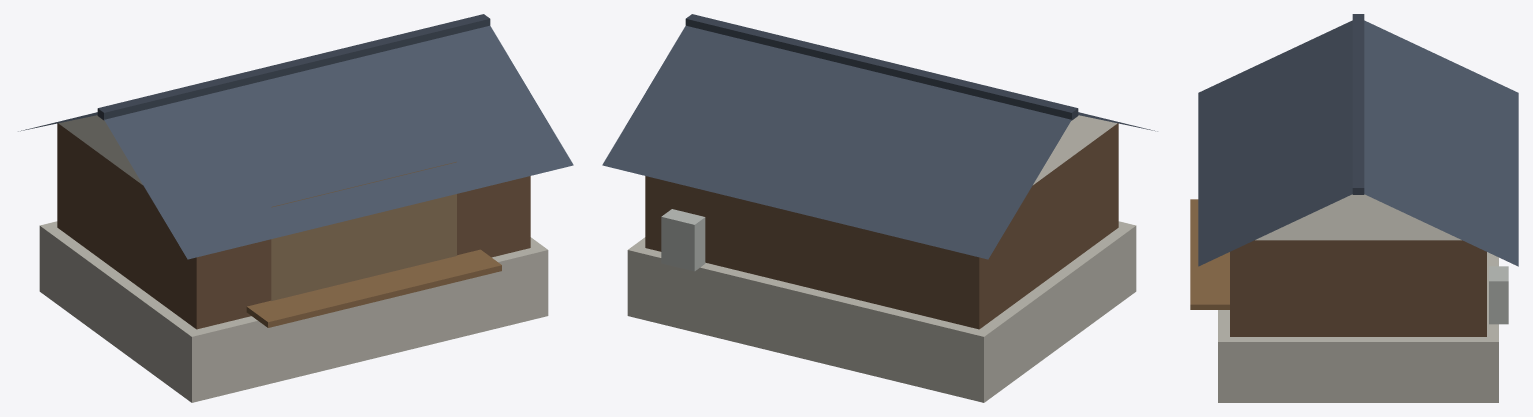
The model's file is house.glb.
3 renders of one model, left to right at view 1: azimuth 30°, elevation 25°; view 2: azimuth 150°, elevation 25°; view 3: azimuth 270°, elevation 25°, orthographic. The views are drawn at different scales.
Visible parts, largest first — view 1: house; view 2: house; view 3: house.
Part boxes in pixels (x1,y1,x2,y2): house: [18, 14, 573, 402]; house: [602, 14, 1157, 402]; house: [1190, 14, 1518, 402].
Size of the model in its own units: 10.4 by 6.19 by 8.3.
